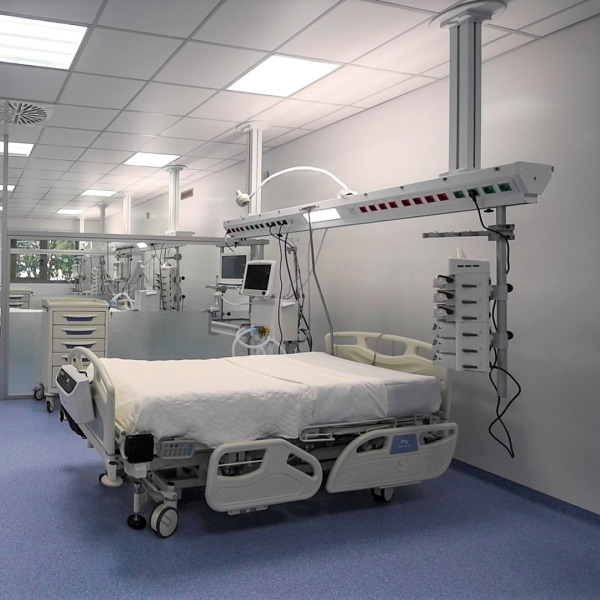bedrail: (326, 421, 460, 494), (205, 438, 322, 517)
bedside_monitor: (239, 258, 279, 298), (219, 253, 248, 287)
breathing_tube: (230, 324, 291, 358)
foot_board: (325, 330, 451, 378)
hospital_bed: (55, 331, 455, 538)
medical_drawer: (31, 297, 109, 413), (1, 284, 34, 310)
ventilator: (230, 297, 300, 357)
